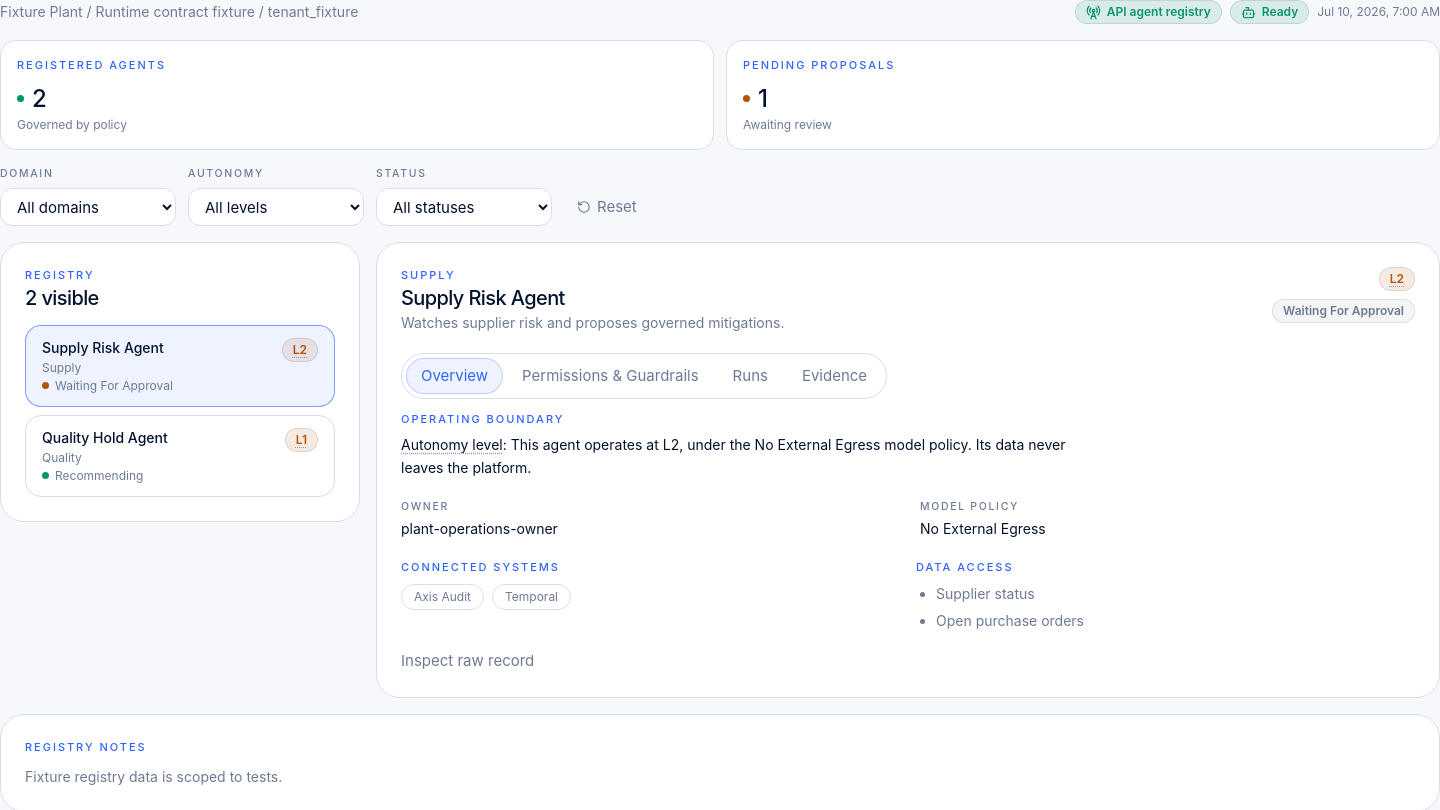
Scenario: AgentRegistry list and filters › switches the detail panel when a list item is selected
The image size is (1440, 810).
Expected: the heading "Supply Risk Agent" is shown, [401,286,565,310]
Click the button "Quality Hold Agent Quality Recommending L1": [105, 437] box [25,415,335,497]
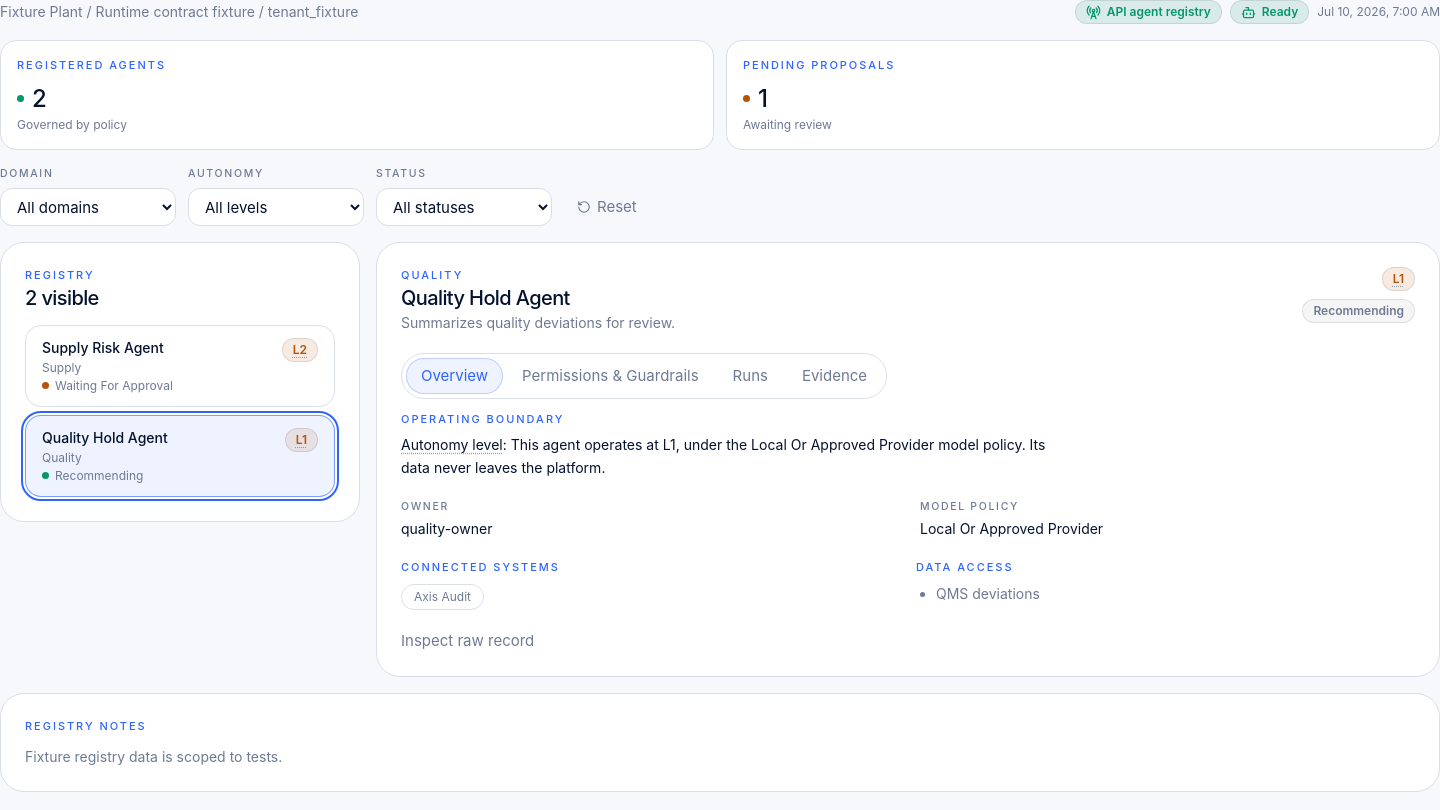
Now the heading "Quality Hold Agent" is shown, box [401,286,570,310]
